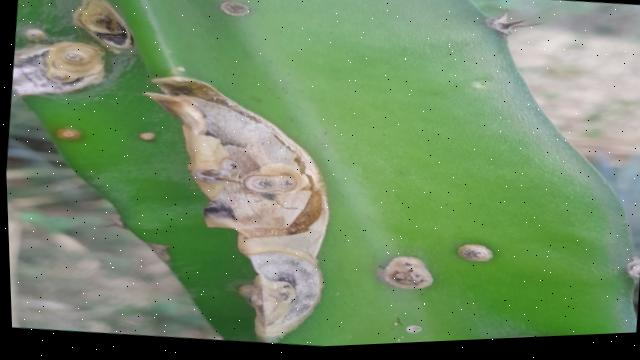stemcanker: (378, 252, 436, 295), (457, 240, 496, 265), (218, 0, 253, 19), (55, 125, 84, 142), (136, 130, 158, 144), (402, 322, 424, 336)
